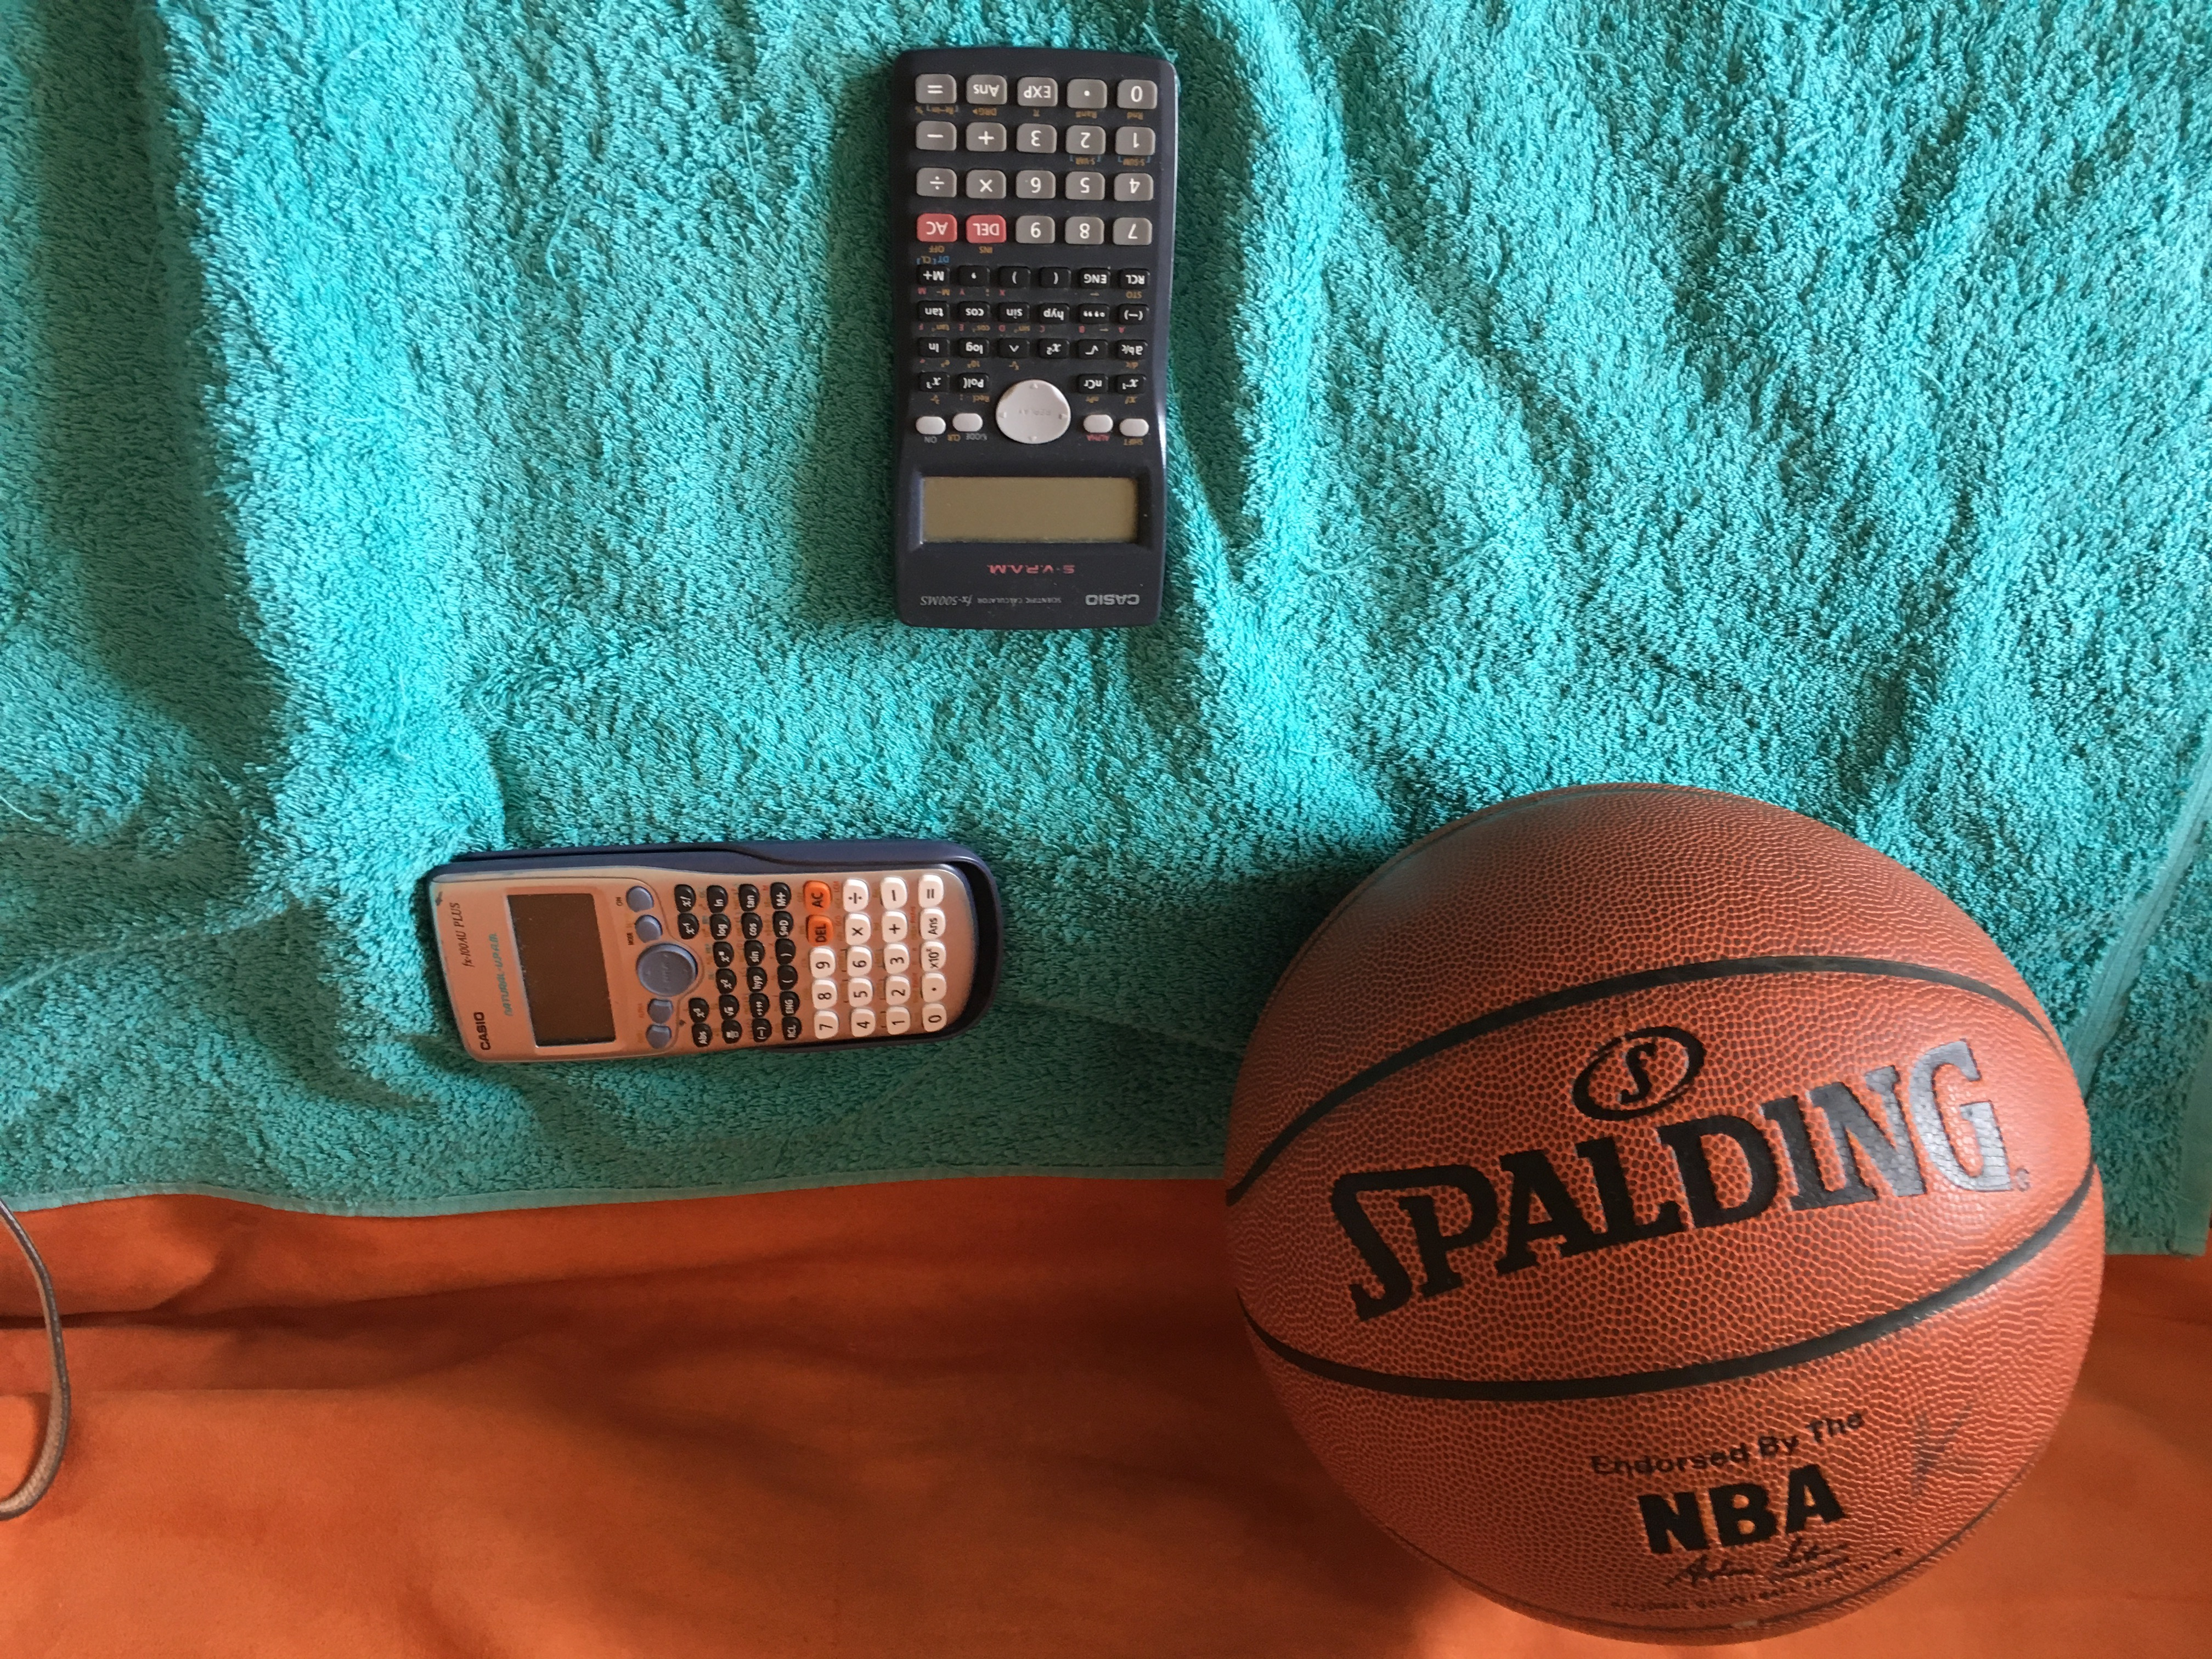Basketball: (1209, 782, 2125, 1645)
Calculator: (859, 40, 1188, 643), (406, 826, 1019, 1073)
